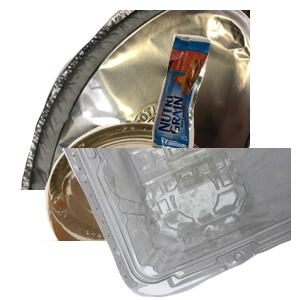glass: (22, 120, 233, 300)
metal: (18, 10, 258, 190)
plastic: (60, 148, 300, 300)
trash: (149, 31, 300, 179)
